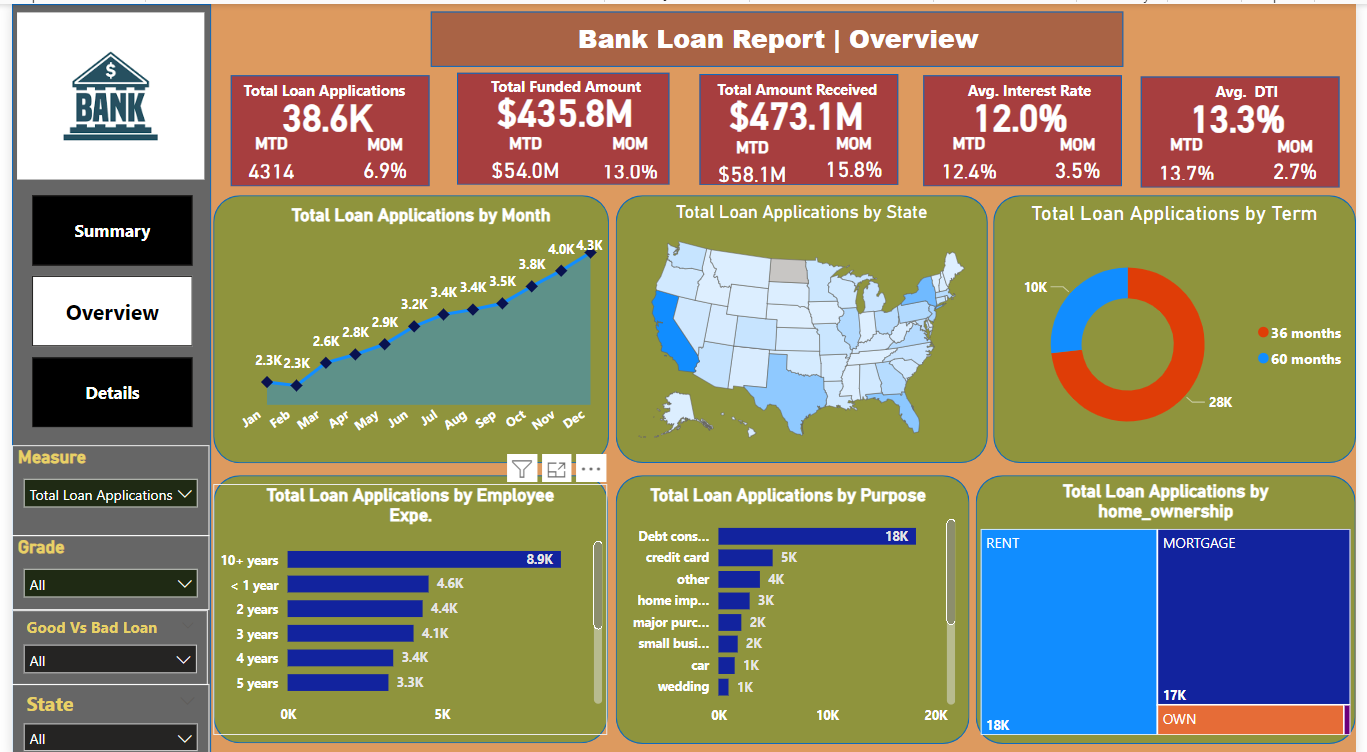

The page's visual inventory and layout, read from the dashboard file:
{"tool":"powerbi","page":{"name":"Overview","canvas":[1280,720],"ordinal":1},"visuals":[{"type":"shape","box":[654.6,66.3,189.3,106],"z":0,"group":"g3"},{"type":"shape","box":[423.3,66.9,202.3,106.8],"z":0,"group":"g2"},{"type":"shape","box":[208.8,67.6,189.3,106],"z":0,"group":"g1"},{"type":"shape","box":[868.4,67.6,189.3,106],"z":0,"group":"g4"},{"type":"shape","box":[1075.5,68.8,189.3,106],"z":0,"group":"g5"},{"type":"shape","box":[191.5,181.9,377,255.3],"z":0},{"type":"shape","box":[398.3,7.5,659.6,52.8],"z":1000},{"type":"textbox","box":[450.6,65.1,178.4,37],"z":1000,"group":"g2"},{"type":"shape","box":[0,0,189.7,719.9],"z":2000},{"type":"card","title":"MTD","fields":{"Values":["Measure_Table.MTD_funded_amount"]},"box":[446.9,124.7,82.9,46.5],"z":2000,"group":"g2"},{"type":"textbox","box":[479.9,11.3,500,49],"z":3000},{"type":"card","title":"MOM","fields":{"Values":["Measure_Table.MOM funded amount"]},"box":[553.7,124.7,67.8,42.7],"z":3000,"group":"g2"},{"type":"card","fields":{"Values":["Measure_Table.Total amount received"]},"box":[651.8,57.8,189.7,91.7],"z":4000,"group":"g3"},{"type":"group","id":"g1","title":"Group 1","box":[206,59.1,192.2,114.4],"z":4000},{"type":"card","fields":{"Values":["Measure_Table.Total Loan Applications"]},"box":[206,59.1,189.4,91.9],"z":4000,"group":"g1"},{"type":"card","fields":{"Values":["Measure_Table.Avg interest rate"]},"box":[865.6,59.1,189.4,91.9],"z":4000,"group":"g4"},{"type":"card","fields":{"Values":["Measure_Table.Avg. DTI"]},"box":[1072.7,60.3,189.4,91.9],"z":4000,"group":"g5"},{"type":"group","id":"g2","title":"Group 2","box":[423.3,65.1,206,108],"z":4500,"group":"g6"},{"type":"card","fields":{"Values":["Measure_Table.Total funded amount"]},"box":[432.1,55,189.7,93],"z":5000,"group":"g6"},{"type":"group","id":"g3","title":"Group 1","box":[651.8,57.8,192.2,115.6],"z":5000},{"type":"textbox","box":[665.5,66,178.4,37],"z":5000,"group":"g3"},{"type":"textbox","box":[879.3,67.3,178.4,37],"z":5000,"group":"g4"},{"type":"textbox","box":[216,67.8,182.2,36.4],"z":5000,"group":"g1"},{"type":"textbox","box":[1086.4,68.5,178.4,37],"z":5000,"group":"g5"},{"type":"group","id":"g4","title":"Group 1","box":[865.6,59.1,192.2,114.3],"z":6000},{"type":"card","title":"MTD","fields":{"Values":["Measure_Table.MTD avg. interest rate"]},"box":[876.4,123.1,70.4,44],"z":6000,"group":"g4"},{"type":"card","title":"MTD","fields":{"Values":["Measure_Table.MTD_Loan_Applications"]},"box":[217.1,123.5,60.7,44],"z":6000,"group":"g1"},{"type":"card","title":"MTD","fields":{"Values":["Measure_Table.MTD avg. dti"]},"box":[1083.5,124.3,70.4,44],"z":6000,"group":"g5"},{"type":"card","title":"MTD","fields":{"Values":["Measure_Table.MTD total amount received"]},"box":[663.3,126.5,81.7,46.5],"z":6000,"group":"g3"},{"type":"group","id":"g5","title":"Group 1","box":[1072.7,60.3,192.2,114.3],"z":7000},{"type":"card","title":"MOM","fields":{"Values":["Measure_Table.MOM total amount received"]},"box":[766.5,123.4,70.2,47.6],"z":7000,"group":"g3"},{"type":"card","title":"MOM","fields":{"Values":["Measure_Table.MOM Loan Application"]},"box":[320.7,124.7,70.2,47.6],"z":7000,"group":"g1"},{"type":"card","title":"MOM","fields":{"Values":["Measure_Table.MOM Avg. interest rate"]},"box":[980.3,124.7,70.2,47.6],"z":7000,"group":"g4"},{"type":"card","title":"MOM","fields":{"Values":["Measure_Table.MOM Avg. dti"]},"box":[1187.4,125.9,70.2,47.6],"z":7000,"group":"g5"},{"type":"group","id":"g6","title":"Group 3","box":[423.3,55,206,118.1],"z":8000},{"type":"slicer","fields":{"Values":["fin_loan_table.address_state"]},"box":[0,648,187.9,72.3],"z":9000},{"type":"slicer","fields":{"Values":["fin_loan_table.Good vs Bad Loan"]},"box":[0,576.9,186.7,71.1],"z":10000},{"type":"areaChart","fields":{"Y":["Measure_Table.Total Loan Applications"],"Category":["Date Tabel.Month"]},"box":[212.3,191,355.6,237.5],"z":11000},{"type":"slicer","title":"Measure","fields":{"Values":["Select Measure.Select Measure"]},"box":[0,420.3,187.9,86.7],"z":12000},{"type":"slicer","title":"Grade","fields":{"Values":["fin_loan_table.grade"]},"box":[0,505.8,187.9,71.1],"z":13000},{"type":"shape","box":[575.4,182.2,354.3,255],"z":14000},{"type":"shapeMap","fields":{"Value":["Measure_Table.Total Loan Applications"],"Category":["fin_loan_table.address_state"]},"box":[575.4,188.5,354.3,242.5],"z":15000},{"type":"shape","box":[934.7,182.2,345.5,255],"z":16000},{"type":"donutChart","fields":{"Y":["Measure_Table.Total Loan Applications"],"Category":["fin_loan_table.term"]},"box":[934.7,188.5,345.5,248.8],"z":17000},{"type":"shape","box":[191.5,449.2,375.8,255.3],"z":18000},{"type":"clusteredBarChart","fields":{"Y":["Measure_Table.Total Loan Applications"],"Category":["fin_loan_table.emp_length"]},"box":[191.5,457.7,375.8,238.5],"z":19000},{"type":"shape","box":[575,448.8,336.9,256],"z":20000},{"type":"barChart","fields":{"Y":["Measure_Table.Total Loan Applications"],"Category":["fin_loan_table.purpose"]},"box":[575,457.1,328.6,239.3],"z":21000},{"type":"shape","box":[917.9,448.8,361.9,256],"z":22000},{"type":"treemap","fields":{"Values":["Measure_Table.Total Loan Applications"],"Group":["fin_loan_table.home_ownership"]},"box":[917.9,453.6,361.9,247.6],"z":23000},{"type":"image","box":[0,0,187.9,175.8],"z":24000},{"type":"pageNavigator","box":[19,182.1,153.6,223.8],"z":24001}]}

Visuals, with their boxes in screenshot pixels (x1, y1, x2, y2), scaled from the page's 1280x720 canvas onto the 1367x752 screenshot:
shape: (699, 69, 901, 180)
shape: (452, 70, 668, 181)
shape: (223, 71, 425, 181)
shape: (927, 71, 1130, 181)
shape: (1149, 72, 1351, 183)
shape: (205, 190, 607, 457)
shape: (425, 8, 1130, 63)
textbox: (481, 68, 672, 107)
shape: (0, 0, 203, 751)
"MTD" card: (477, 130, 566, 179)
textbox: (513, 12, 1047, 63)
"MOM" card: (591, 130, 664, 175)
card - Measure_Table.Total amount received: (696, 60, 899, 156)
"Group 1" group: (220, 62, 425, 181)
card - Measure_Table.Total Loan Applications: (220, 62, 422, 158)
card - Measure_Table.Avg interest rate: (924, 62, 1127, 158)
card - Measure_Table.Avg. DTI: (1146, 63, 1348, 159)
"Group 2" group: (452, 68, 672, 181)
card - Measure_Table.Total funded amount: (461, 57, 664, 155)
"Group 1" group: (696, 60, 901, 181)
textbox: (711, 69, 901, 108)
textbox: (939, 70, 1130, 109)
textbox: (231, 71, 425, 109)
textbox: (1160, 72, 1351, 110)
"Group 1" group: (924, 62, 1130, 181)
"MTD" card: (936, 129, 1011, 175)
"MTD" card: (232, 129, 297, 175)
"MTD" card: (1157, 130, 1232, 176)
"MTD" card: (708, 132, 796, 181)
"Group 1" group: (1146, 63, 1351, 182)
"MOM" card: (819, 129, 894, 179)
"MOM" card: (342, 130, 417, 180)
"MOM" card: (1047, 130, 1122, 180)
"MOM" card: (1268, 131, 1343, 181)
"Group 3" group: (452, 57, 672, 181)
slicer - fin_loan_table.address_state: (0, 677, 201, 751)
slicer - fin_loan_table.Good vs Bad Loan: (0, 603, 199, 677)
areaChart - Measure_Table.Total Loan Applications x Date Tabel.Month: (227, 199, 606, 448)
"Measure" slicer: (0, 439, 201, 530)
"Grade" slicer: (0, 528, 201, 603)
shape: (615, 190, 993, 457)
shapeMap - Measure_Table.Total Loan Applications x fin_loan_table.address_state: (615, 197, 993, 450)
shape: (998, 190, 1366, 457)
donutChart - Measure_Table.Total Loan Applications x fin_loan_table.term: (998, 197, 1366, 457)
shape: (205, 469, 606, 736)
clusteredBarChart - Measure_Table.Total Loan Applications x fin_loan_table.emp_length: (205, 478, 606, 727)
shape: (614, 469, 974, 736)
barChart - Measure_Table.Total Loan Applications x fin_loan_table.purpose: (614, 477, 965, 727)
shape: (980, 469, 1366, 736)
treemap - Measure_Table.Total Loan Applications x fin_loan_table.home_ownership: (980, 474, 1366, 732)
image: (0, 0, 201, 184)
pageNavigator: (20, 190, 184, 424)
